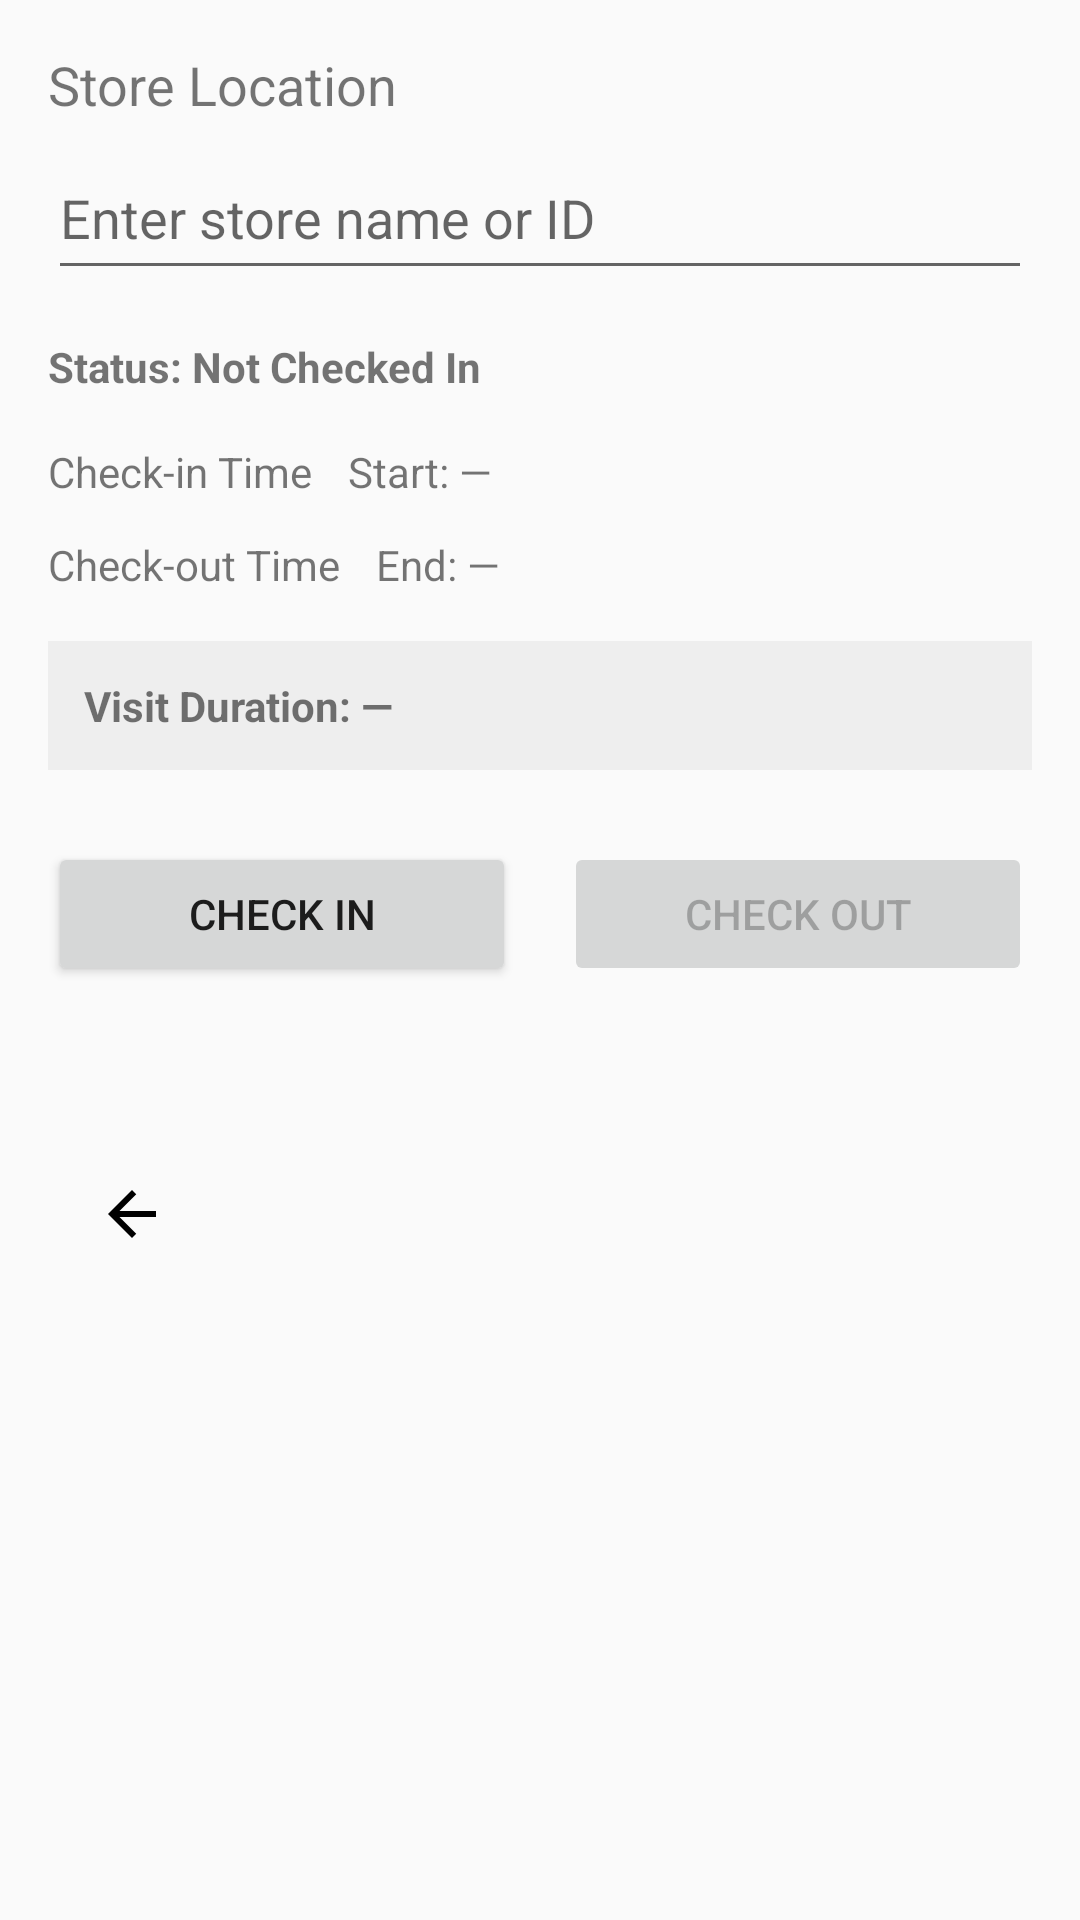

Named icons in this screenshot (1080x1920) and their centers, (x=x, y=y):
Back: (x=132, y=1214)
